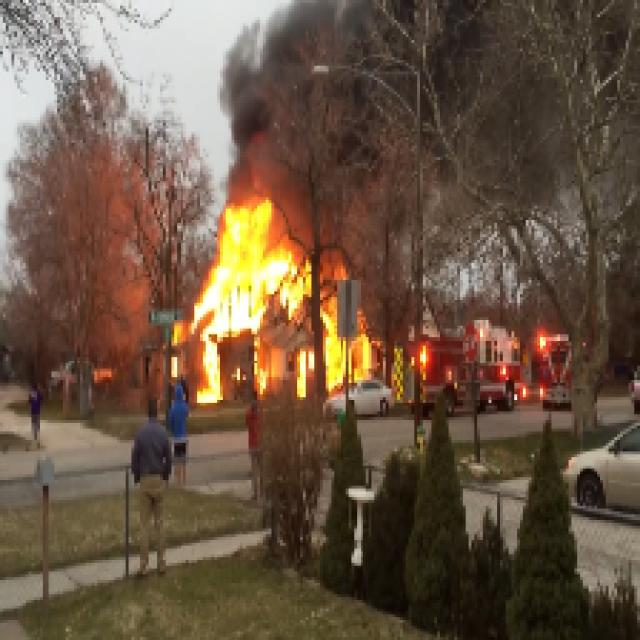fire: (200, 217, 298, 336)
